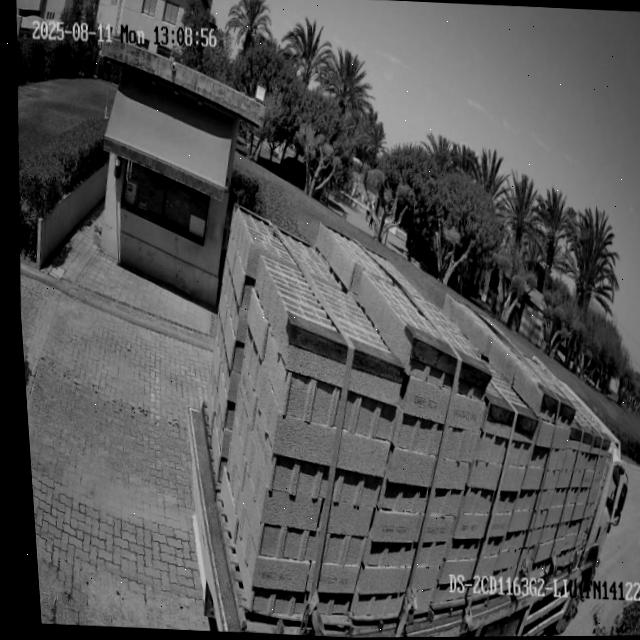bricks: (208, 206, 617, 615)
